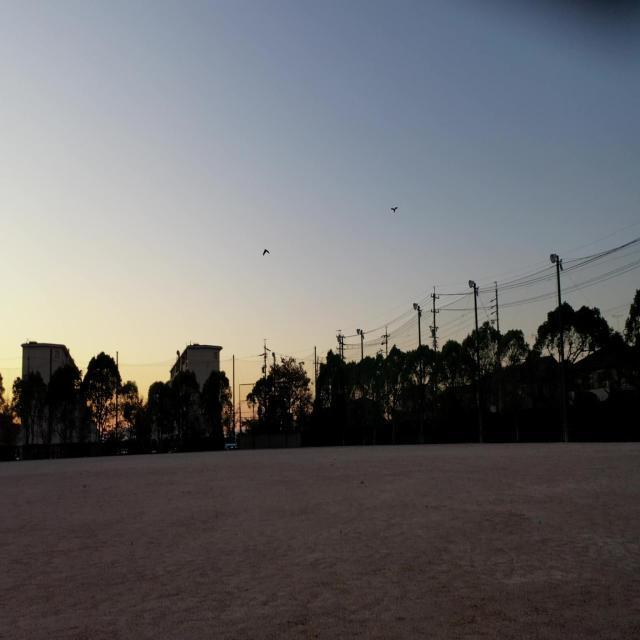Birds: (262, 248, 270, 256), (389, 205, 398, 212)
